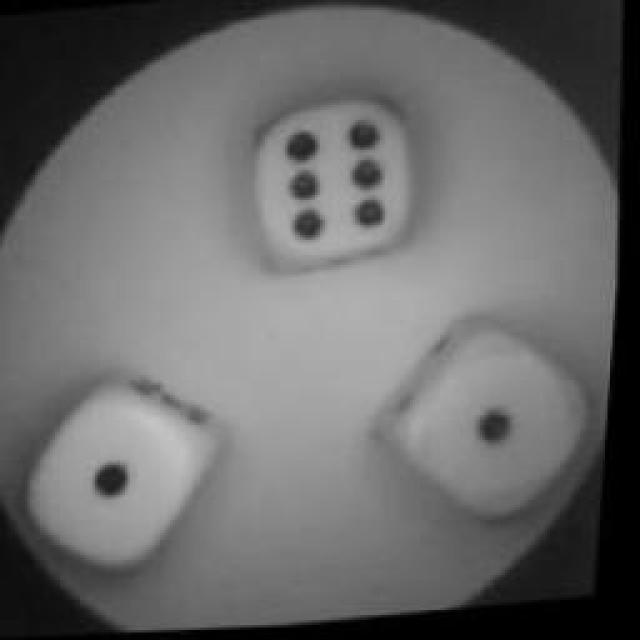dice_1: (19, 369, 241, 586), (385, 325, 607, 535)
dice_6: (244, 100, 426, 280)
